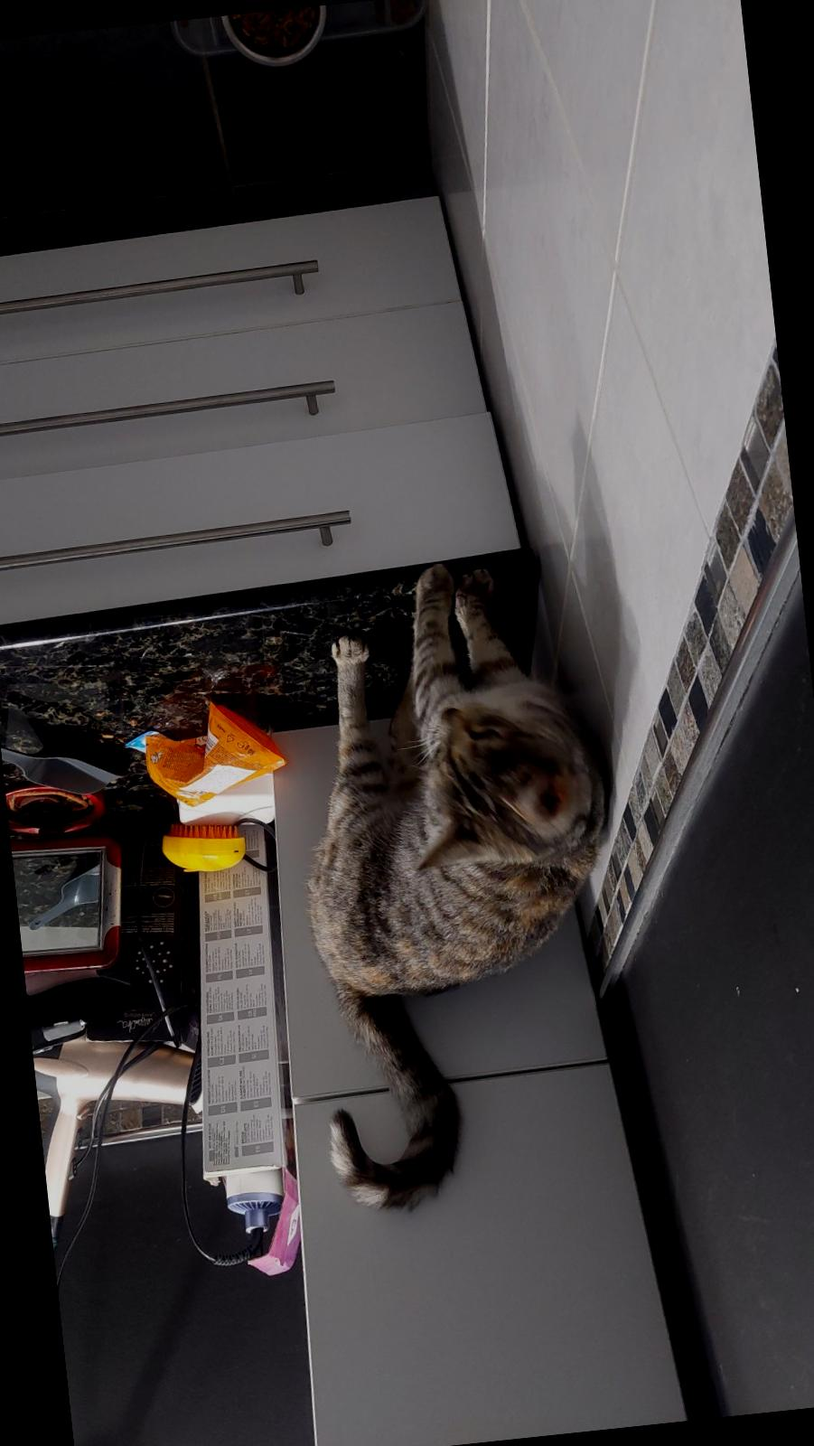macka: (267, 547, 648, 1211)
